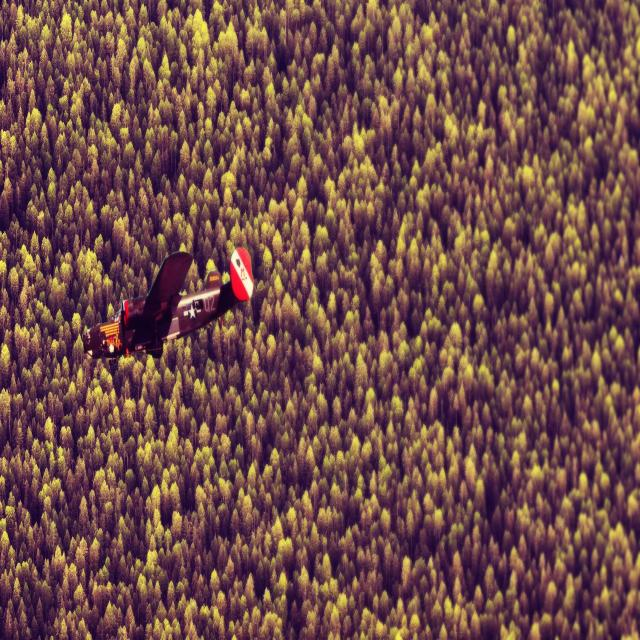airplane: (82, 246, 254, 364)
